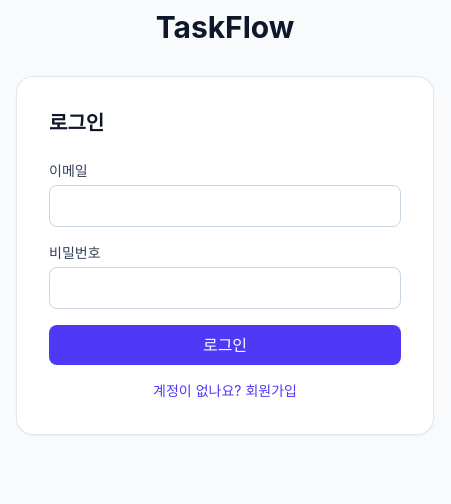
Test: 로그인 화면 › 이메일이나 비밀번호가 틀리면 에러를 보여주고 토큰을 저장하지 않는다
In the field labelled "이메일": x=225, y=206 [49,185,401,227], type "alice@example.com"
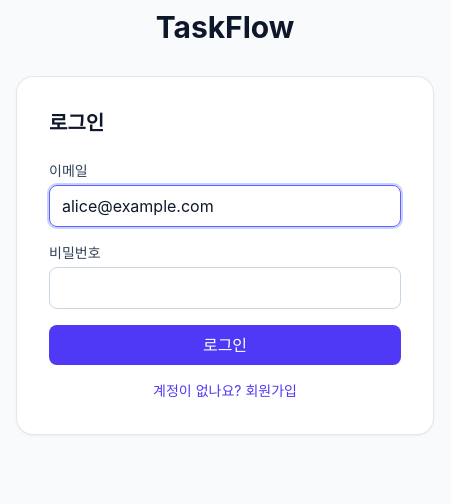
In the password field labelled "비밀번호": x=225, y=288 [49,267,401,309], type "wrong-password"
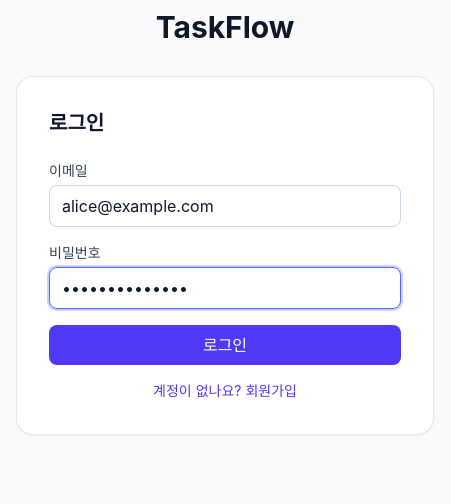
Click the button "로그인": x=225, y=345 [49,325,401,365]
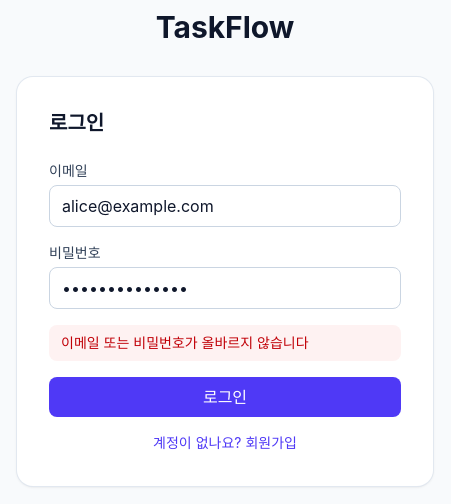
Check: the heading "로그인" is shown, box [49,111,104,135]
Check: the message reads "이메일 또는 비밀번호가 올바르지 않습니다", box [61,334,309,351]
